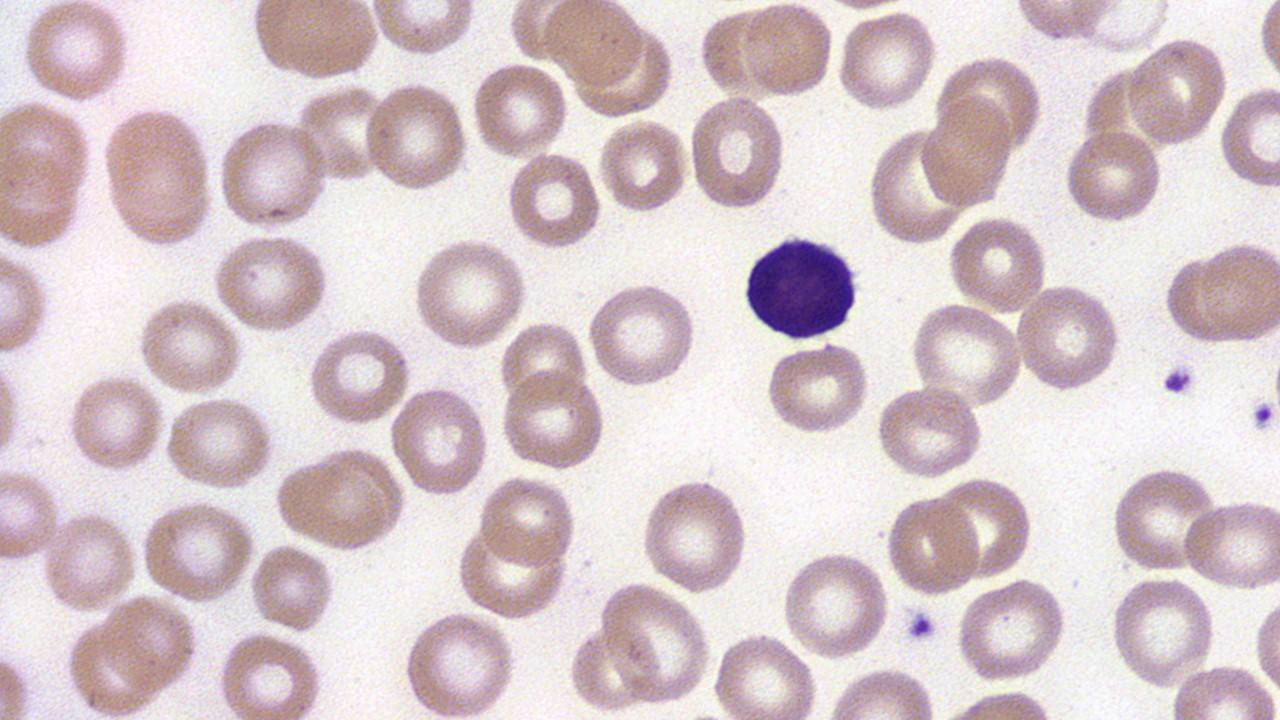Platelets: (902, 604, 940, 646), (1158, 360, 1200, 398), (1250, 396, 1278, 434)
RBC: (99, 103, 217, 250), (595, 580, 714, 706), (272, 447, 408, 552), (411, 233, 528, 352), (636, 474, 752, 594), (215, 115, 331, 230), (908, 300, 1027, 410), (400, 610, 521, 716), (1106, 574, 1218, 688), (780, 546, 892, 660), (211, 231, 335, 333), (362, 80, 471, 196), (954, 576, 1071, 684), (140, 498, 258, 605), (586, 280, 700, 390), (1014, 282, 1125, 392), (18, 1, 136, 103), (1127, 33, 1231, 148), (686, 94, 788, 211), (389, 384, 492, 498), (868, 124, 965, 245), (1108, 464, 1216, 572), (919, 90, 1016, 209), (162, 394, 278, 492), (833, 8, 940, 114), (498, 368, 606, 472), (453, 525, 569, 620), (247, 1, 383, 82), (135, 296, 247, 394), (762, 339, 872, 437), (882, 490, 981, 598), (936, 474, 1036, 580), (64, 372, 167, 474), (307, 326, 412, 426), (946, 212, 1048, 314), (290, 81, 390, 185), (503, 148, 603, 252), (40, 511, 140, 613), (97, 594, 201, 692), (874, 386, 986, 477), (0, 97, 94, 205), (468, 60, 569, 160), (1061, 129, 1165, 226), (476, 473, 578, 570), (1180, 494, 1280, 592), (738, 1, 836, 99), (712, 630, 820, 718), (596, 116, 691, 216), (215, 632, 327, 716), (544, 1, 644, 88), (1, 149, 86, 251), (248, 540, 337, 636), (1199, 239, 1279, 342), (496, 320, 588, 408), (1162, 252, 1244, 346), (699, 4, 773, 101), (1217, 79, 1280, 192), (367, 2, 480, 60), (1166, 660, 1280, 717), (822, 664, 940, 718), (0, 466, 62, 564), (0, 247, 54, 356), (1072, 0, 1174, 55), (1010, 0, 1112, 42), (0, 632, 37, 718), (1, 346, 25, 478), (1251, 590, 1279, 703), (1254, 0, 1280, 89)
WBC: (738, 229, 866, 342)
